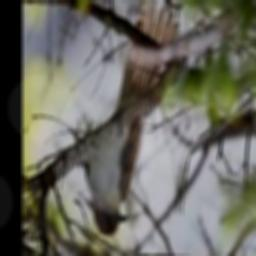Cuckoo: (84, 3, 179, 237)
